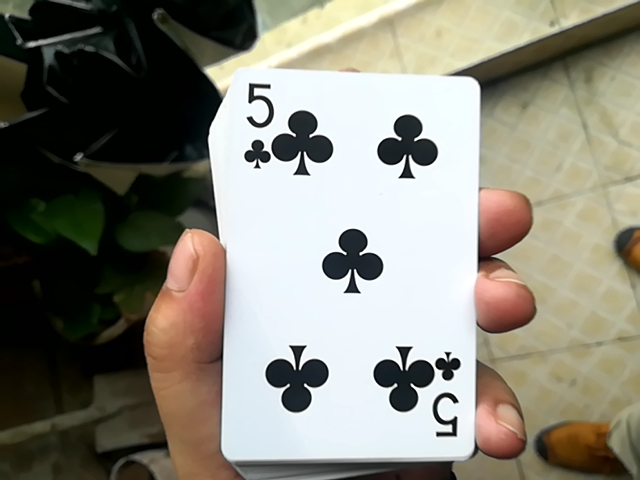mh 5: (204, 63, 480, 458)
